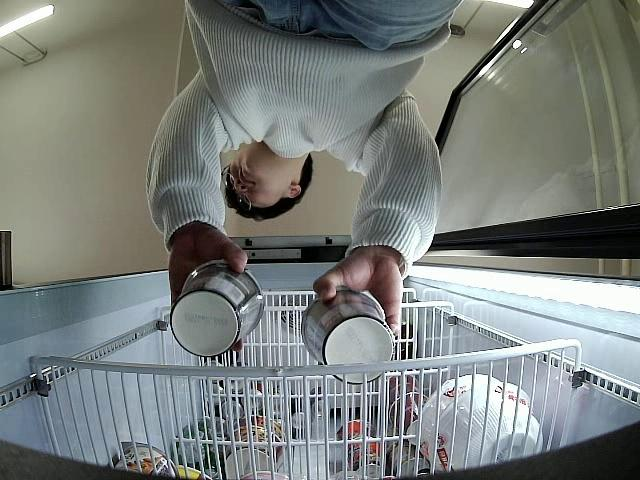00_hand: (168, 239, 249, 354), (313, 260, 403, 341)
08_buldak_S: (299, 289, 396, 384), (169, 261, 265, 356)
